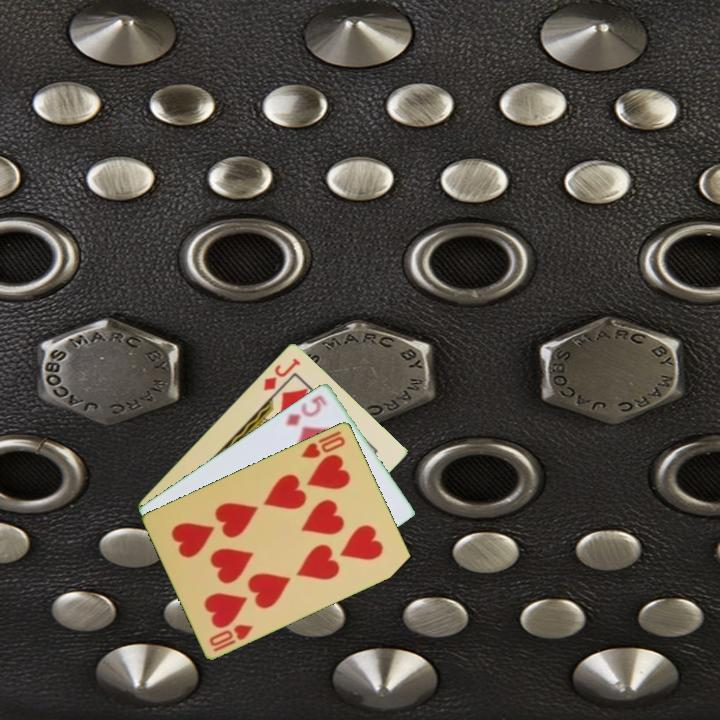10h: (297, 427, 348, 461), (206, 620, 256, 654)
5d: (282, 391, 330, 429)
Jd: (260, 354, 303, 393)
